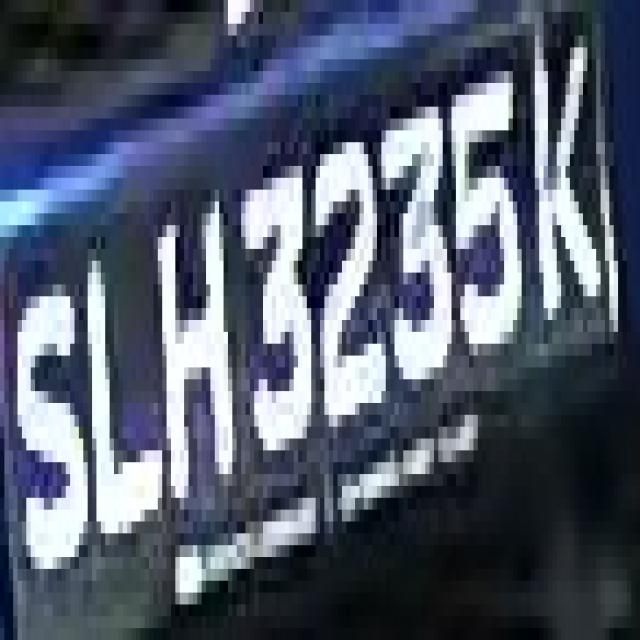2: (294, 83, 390, 474)
3: (373, 71, 469, 427), (228, 154, 320, 522)
5: (452, 48, 530, 391)
H: (140, 166, 241, 521)
K: (509, 12, 618, 379)
L: (74, 225, 176, 569)
S: (8, 213, 88, 593)
